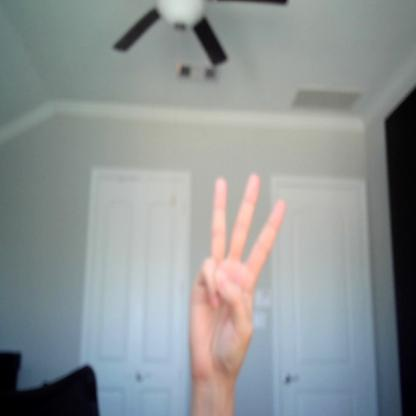W: (187, 170, 290, 384)
